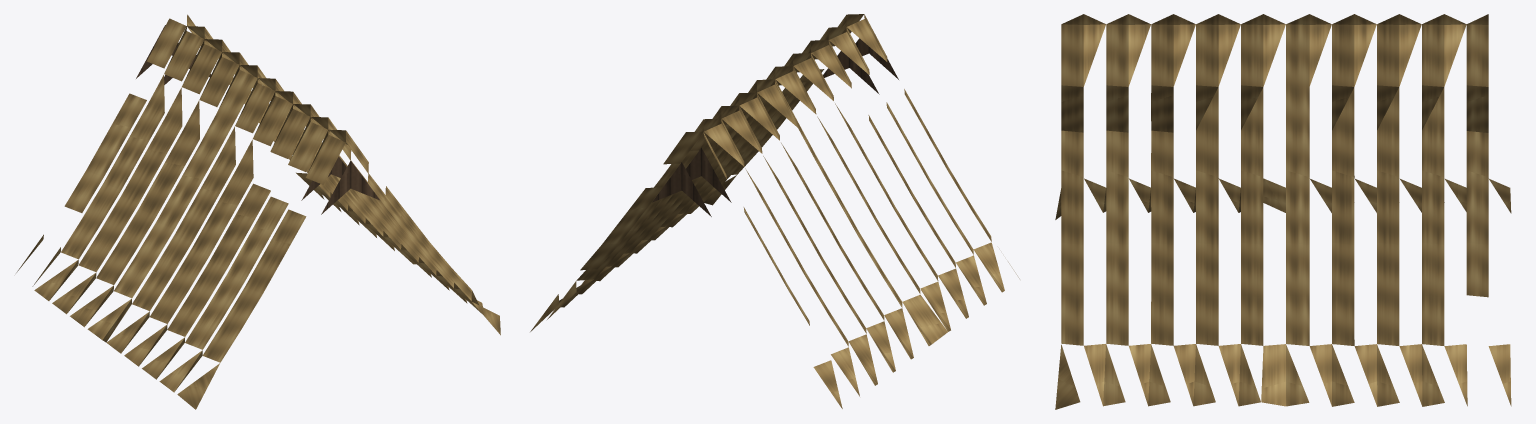
File: Roof_Thatch_4x4_LOD2.gltf
3 renders of one model, left to right at view 1: azimuth 30°, elevation 25°; view 2: azimuth 150°, elevation 25°; view 3: azimuth 270°, elevation 25°, orthographic. The views are drawn at different scales.
Parts seen in each view (by area): view 1: Roof_Thatch_4x4_LOD2; view 2: Roof_Thatch_4x4_LOD2; view 3: Roof_Thatch_4x4_LOD2.
Part boxes in pixels (box(x1,y1,x2,y2)): Roof_Thatch_4x4_LOD2: box(16, 14, 500, 409); Roof_Thatch_4x4_LOD2: box(530, 14, 1019, 408); Roof_Thatch_4x4_LOD2: box(1055, 14, 1511, 409).
Size of the model in its own units: 5.51 by 3.79 by 5.49.
Materials: 2 (2 with a texture image).
